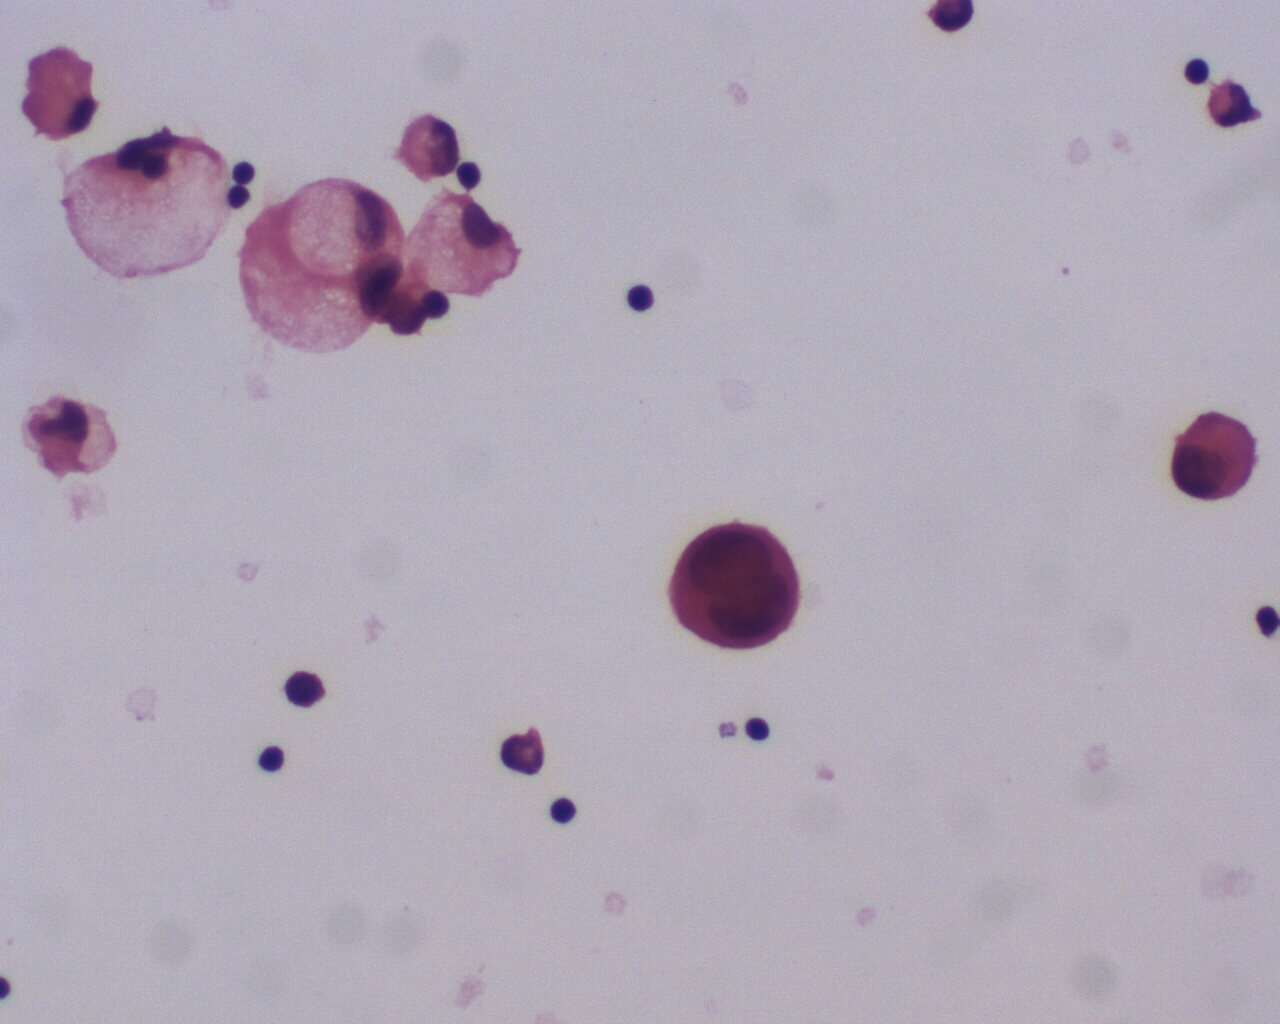ab: (661, 516, 804, 654)
histo: (62, 129, 231, 284), (404, 187, 522, 309)
lymph: (543, 791, 589, 830), (1177, 50, 1215, 92), (735, 711, 772, 751), (622, 277, 654, 316), (255, 739, 288, 775)
meso: (1167, 399, 1264, 511)
